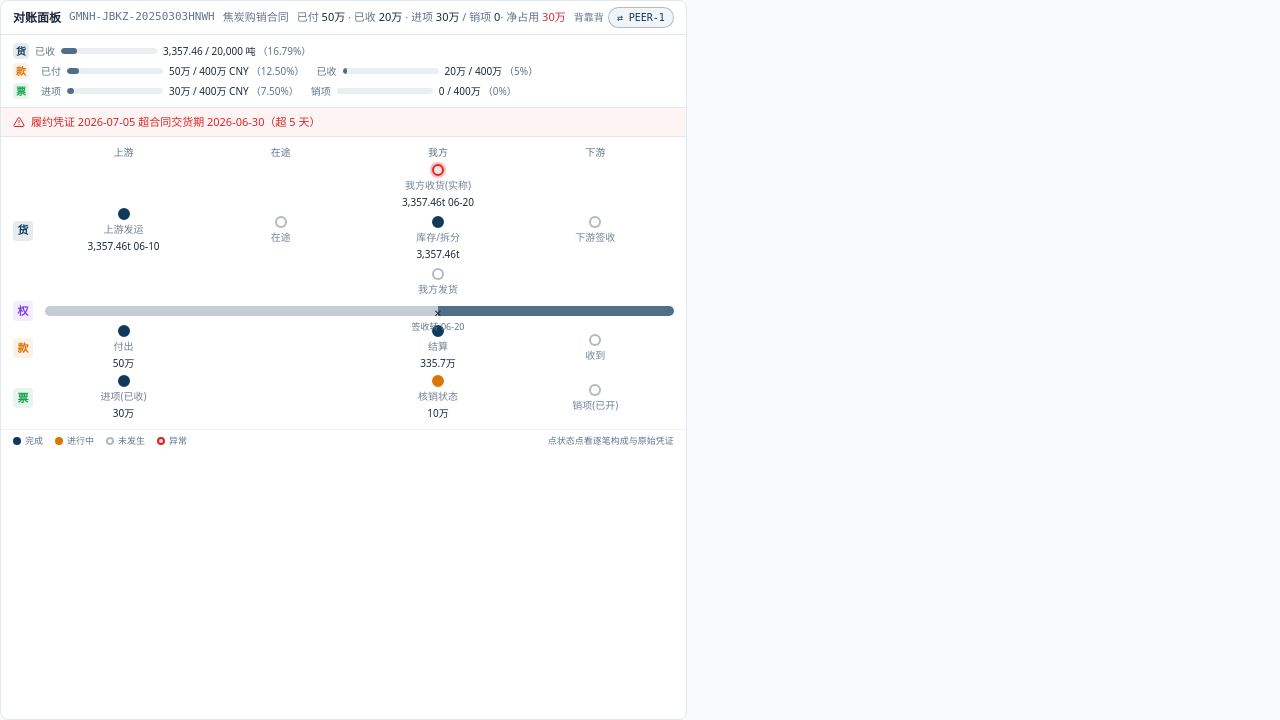
Test: ContractFlowPanel (spec §15) › 背靠背 correlates chip 互切: 点击后按对偶合同号重新拉取
Expected: the text "上游发运" is shown, [104,222,144,236]
Click the button with test id "correlate-PEER-1".
click(641, 18)  # box [608,7,674,28]
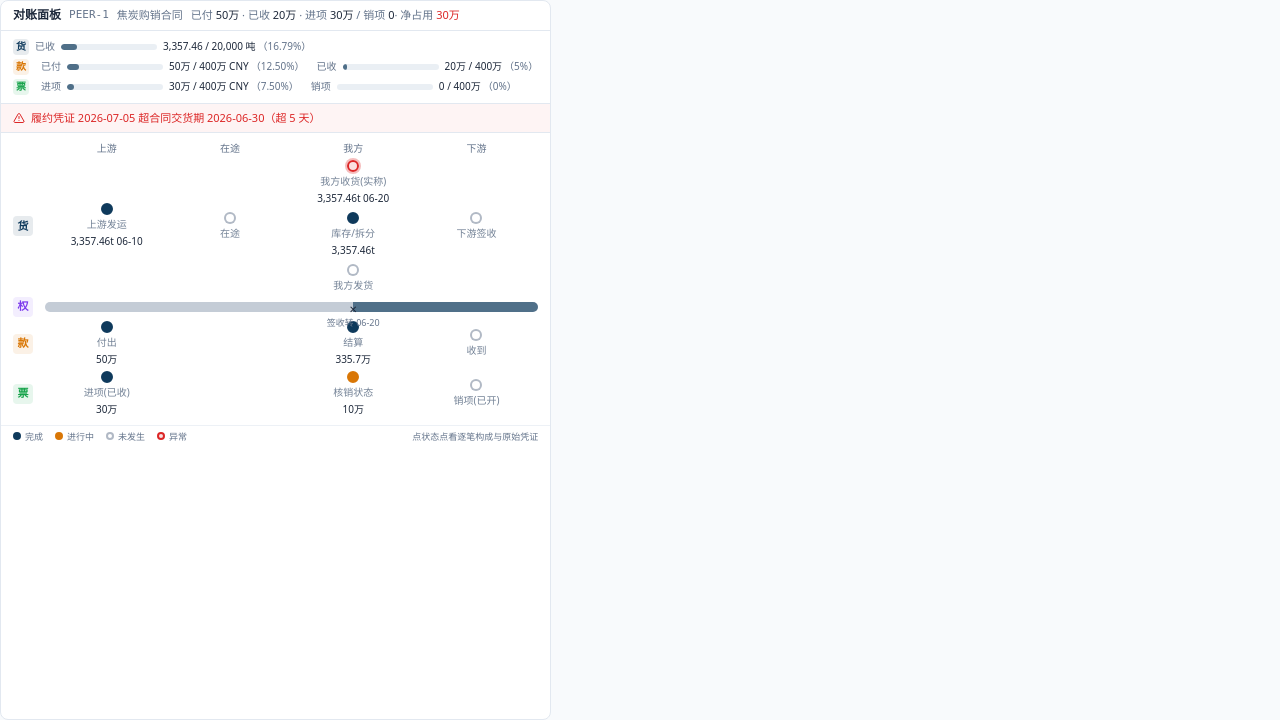
Expected: the text "PEER-1" is shown, [69,7,109,24]
